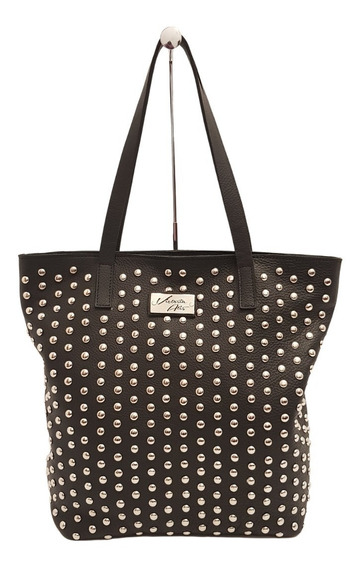cartera: (16, 22, 343, 544)
